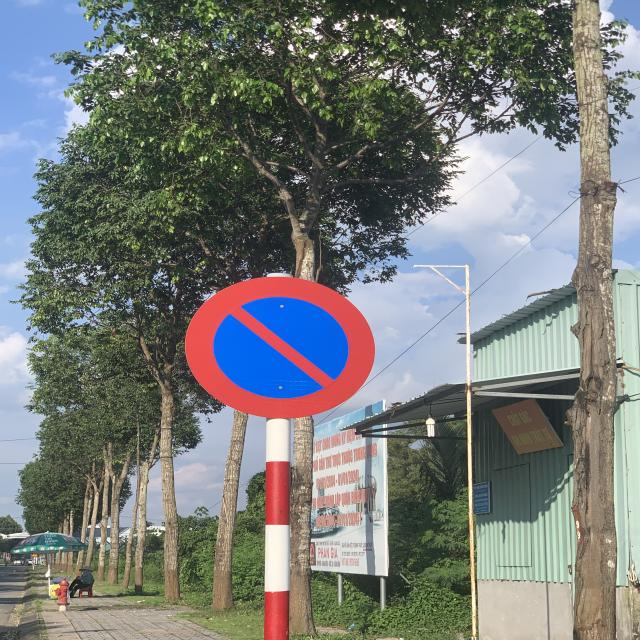Cam_Dau_Xe: (183, 274, 375, 418)
